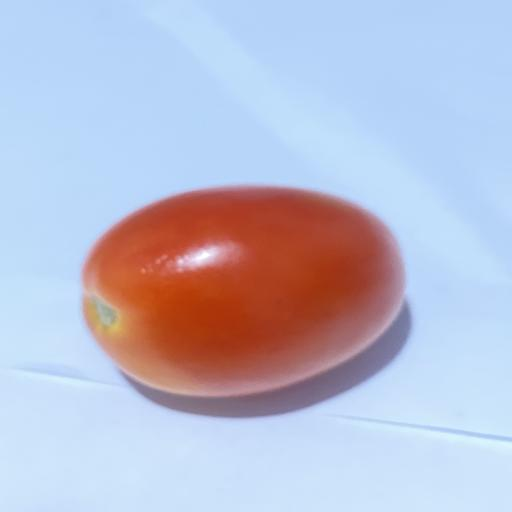ripe: (82, 186, 404, 397)
